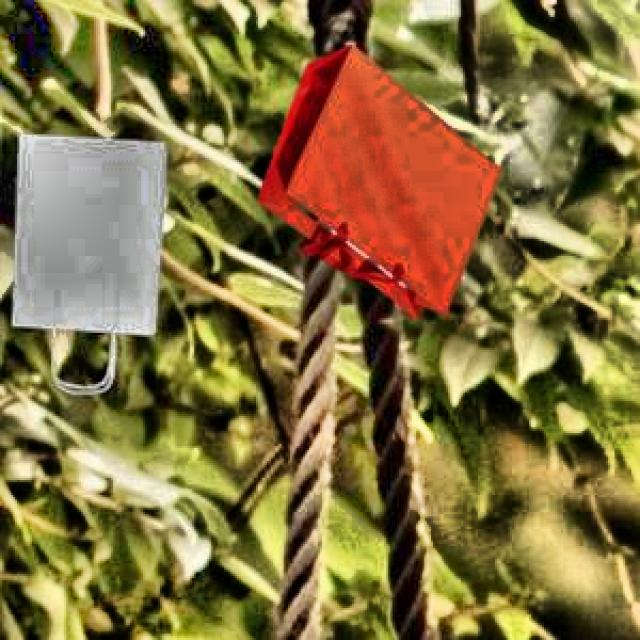Paper-bag: (258, 44, 495, 337), (13, 119, 168, 394)
